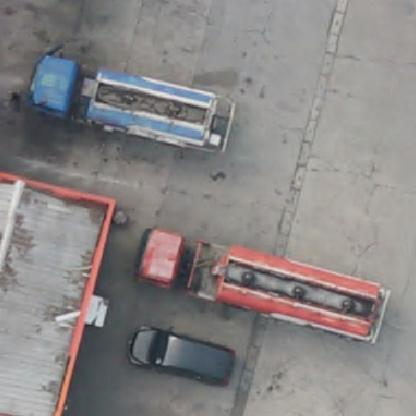car: (126, 322, 235, 389)
truck: (136, 229, 392, 363), (26, 50, 237, 166)
